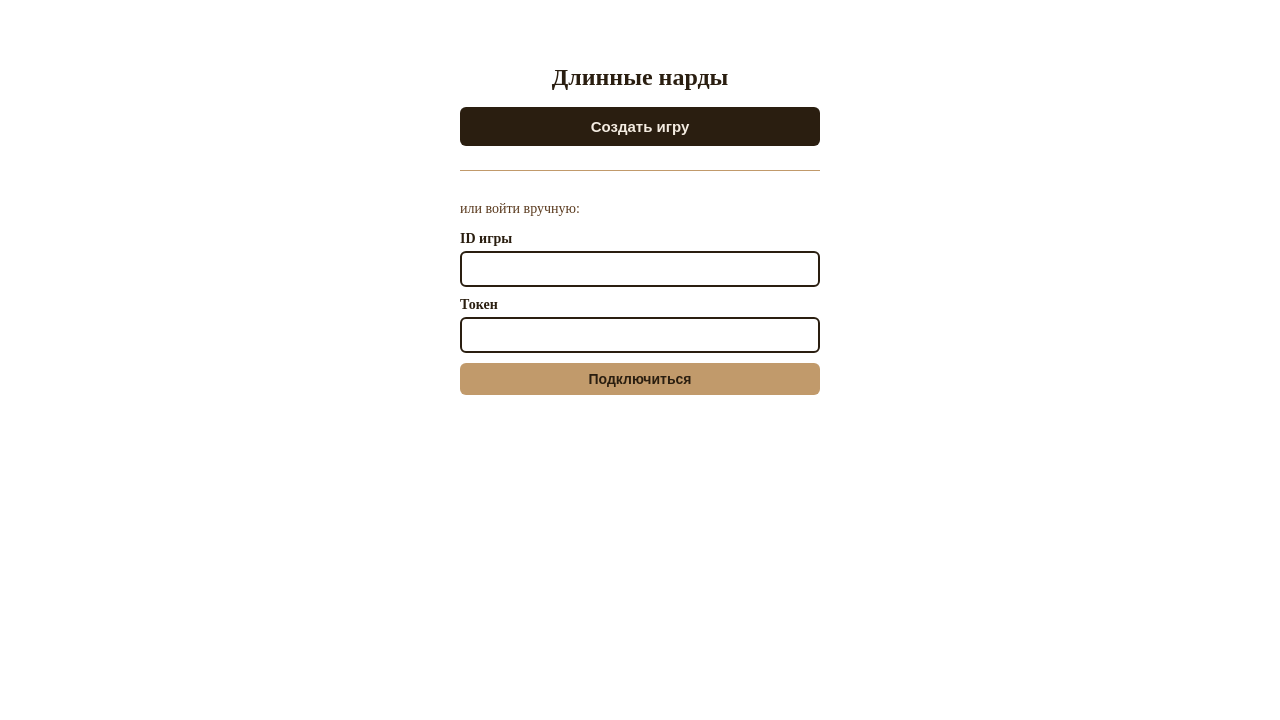
Scenario: App opponent-joined notification (#34a) › App_opponentJoined_showsToast
Type "g-1" into the field labelled "ID игры" at (640, 270), box 460,252 -> 820,288
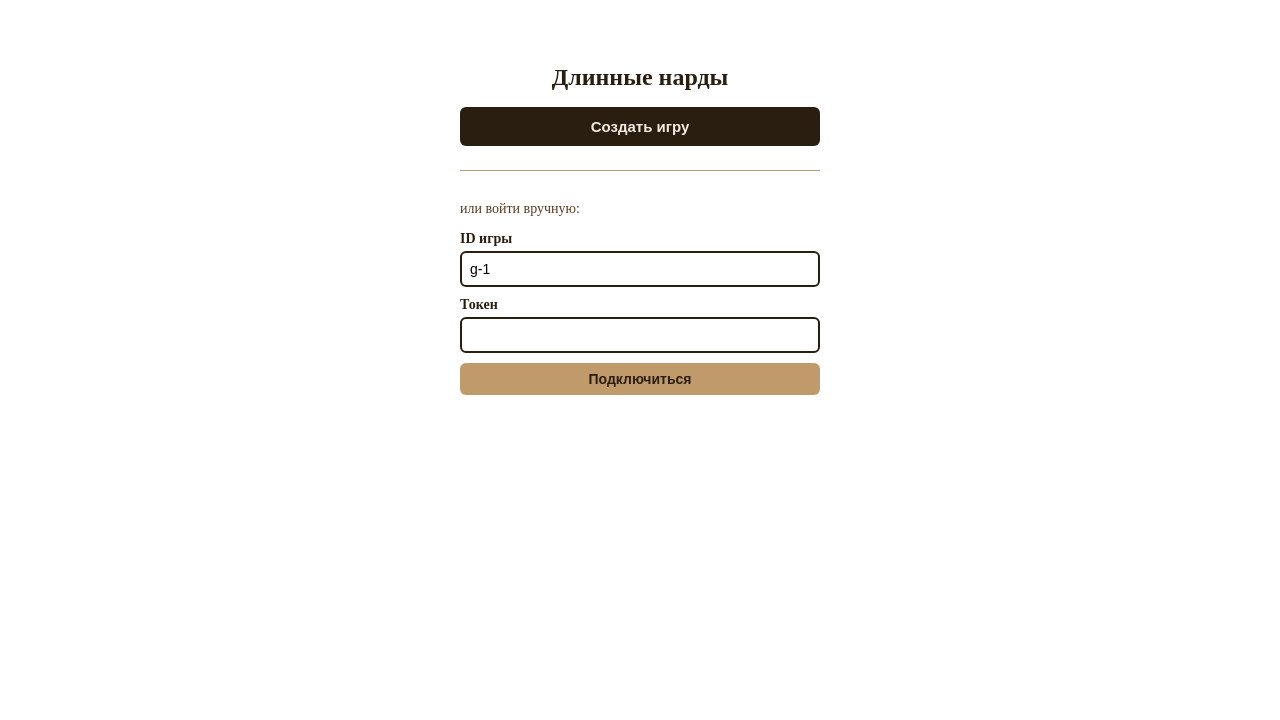
Type "tok" into the password field labelled "Токен" at (640, 335), box 460,317 -> 820,353
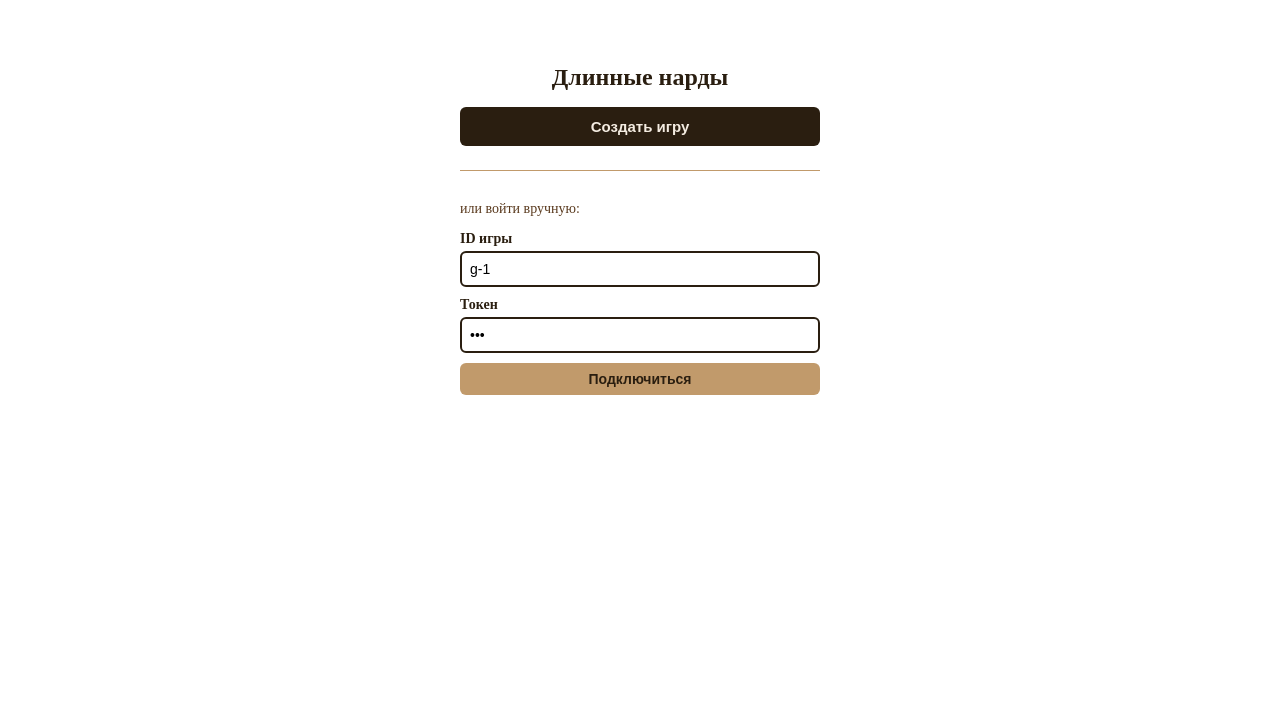
Click the button "Подключиться" at (640, 379), box 460,363 -> 820,395
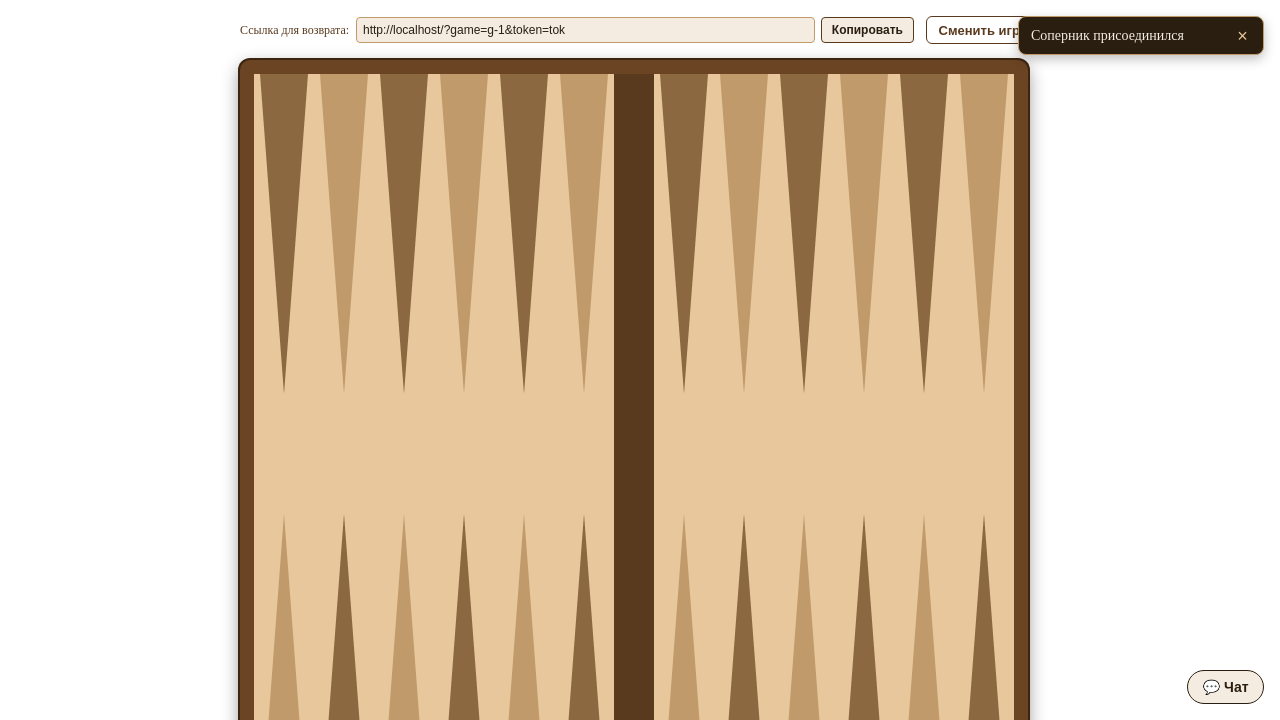
Result: the text "Соперник присоединился" is shown at 1031,28 -> 1184,43
